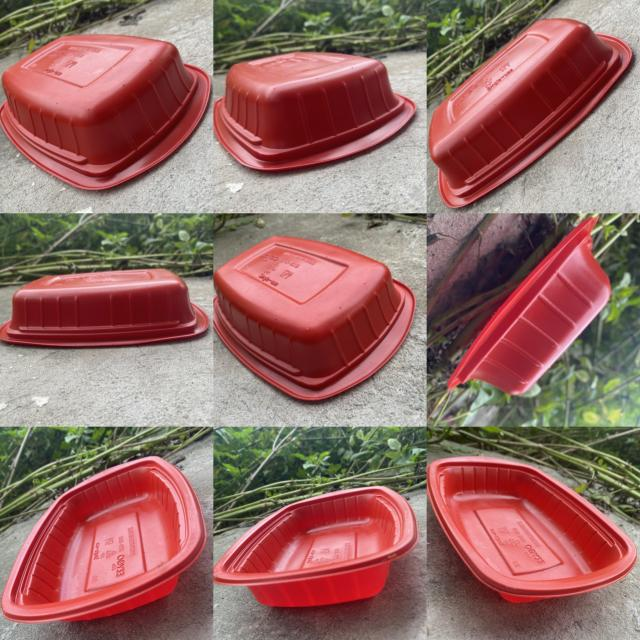Single-Use-Plastic: (429, 19, 631, 208), (1, 456, 206, 622), (214, 236, 415, 400), (0, 35, 210, 189), (428, 456, 638, 602), (448, 218, 611, 395), (214, 486, 419, 606), (214, 52, 416, 171), (0, 269, 209, 346)
